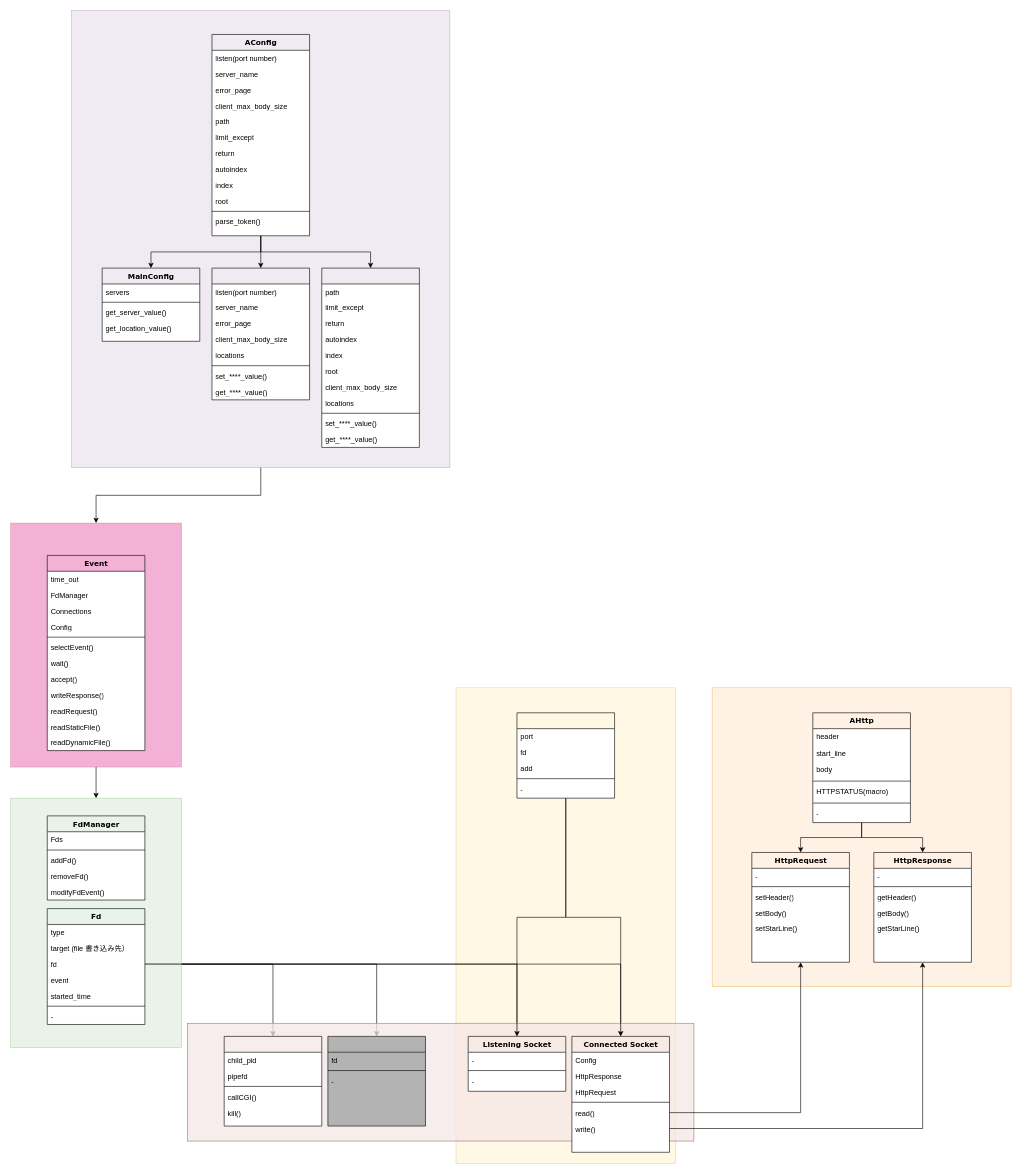
The diagram is 1022 pixels wide and 1174 high, and some of its shapes have lost their labels. Here are the shapes that lost their labels. From the top down, the box of each, then its label:
(211, 267, 310, 400): ServerConfig
(321, 267, 419, 447): LocationConfig
(516, 712, 615, 798): ASocket
(224, 1036, 322, 1126): CGI (dynamic file)
(327, 1036, 425, 1126): static file
